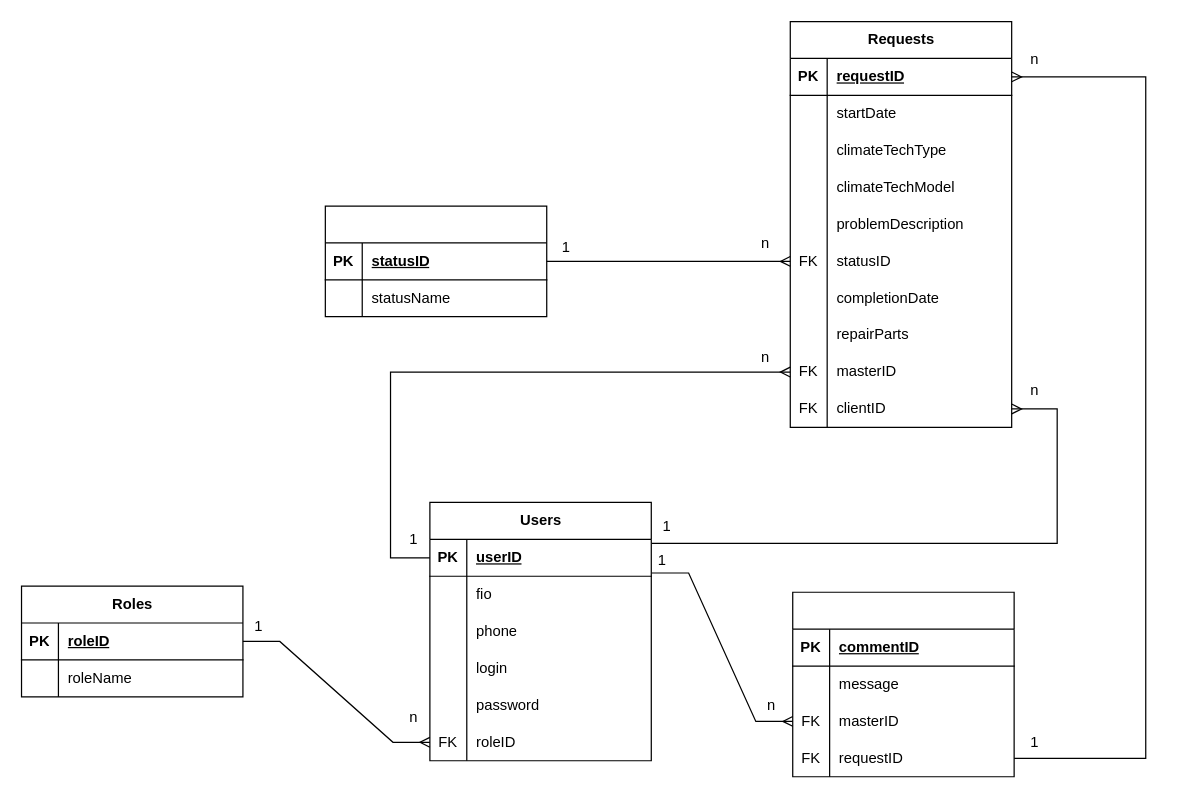
The diagram is 1177 pixels wide and 798 high, and some of its shapes have lost their labels. The box of each missing label's shape, as (x1, y1, x2, y2) in pixels:
Comments: (792, 591, 1014, 777)
Statuses: (324, 205, 547, 317)
